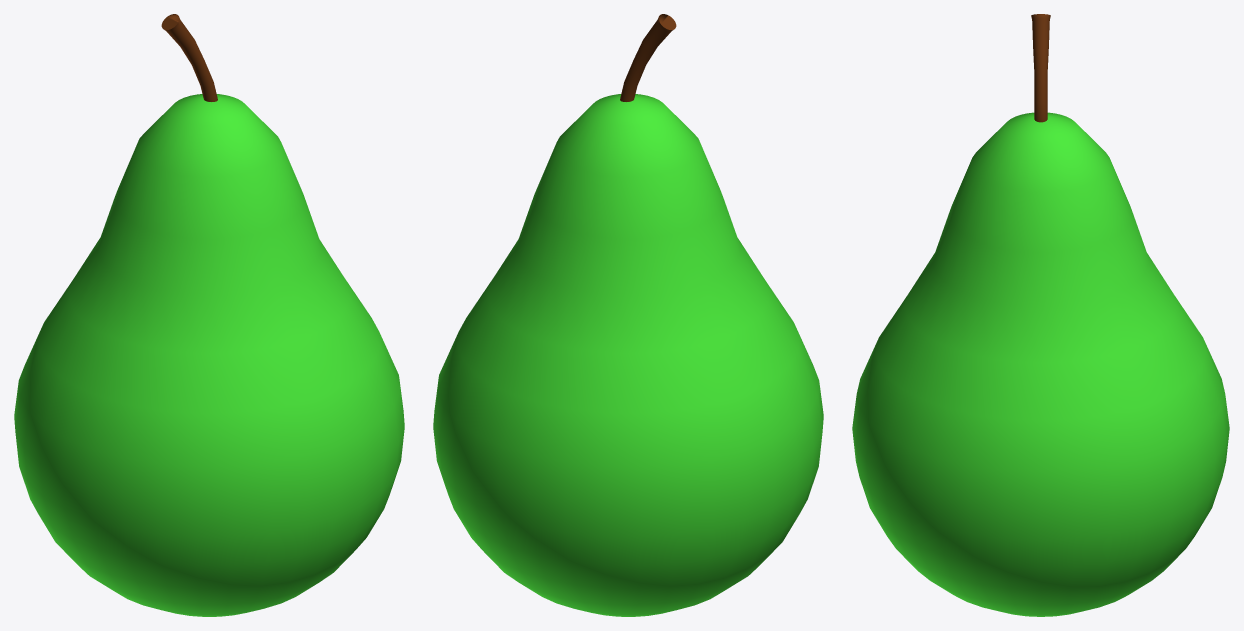
Rendered from pear.fbx.
The picture shows the model from 3 angles, left to right: view 1: azimuth 30°, elevation 25°; view 2: azimuth 150°, elevation 25°; view 3: azimuth 270°, elevation 25°; orthographic projection. The views are drawn at different scales.
Parts seen in each view (by area): view 1: #pear; view 2: #pear; view 3: #pear.
Part boxes in pixels (<box>): #pear: <box>14,14,404,616</box>; #pear: <box>433,14,823,616</box>; #pear: <box>852,14,1229,616</box>.
Bounding box in the file's own units: 200 × 334 × 200.
